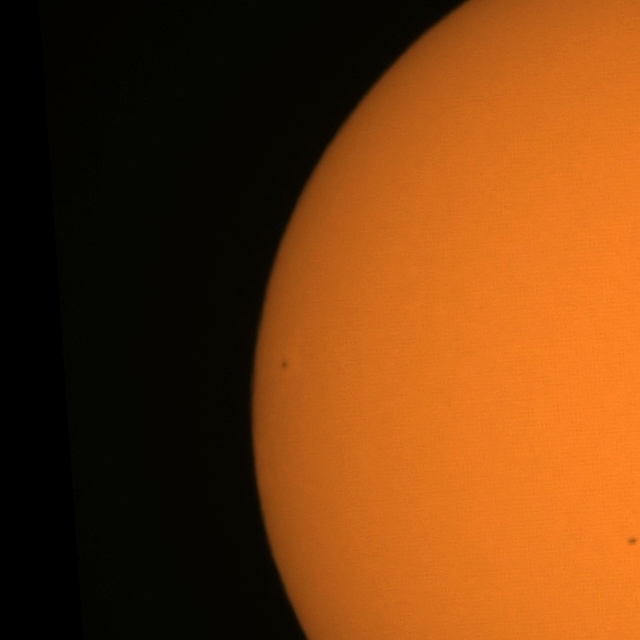sunspot: (279, 356, 290, 372), (626, 536, 640, 548)
